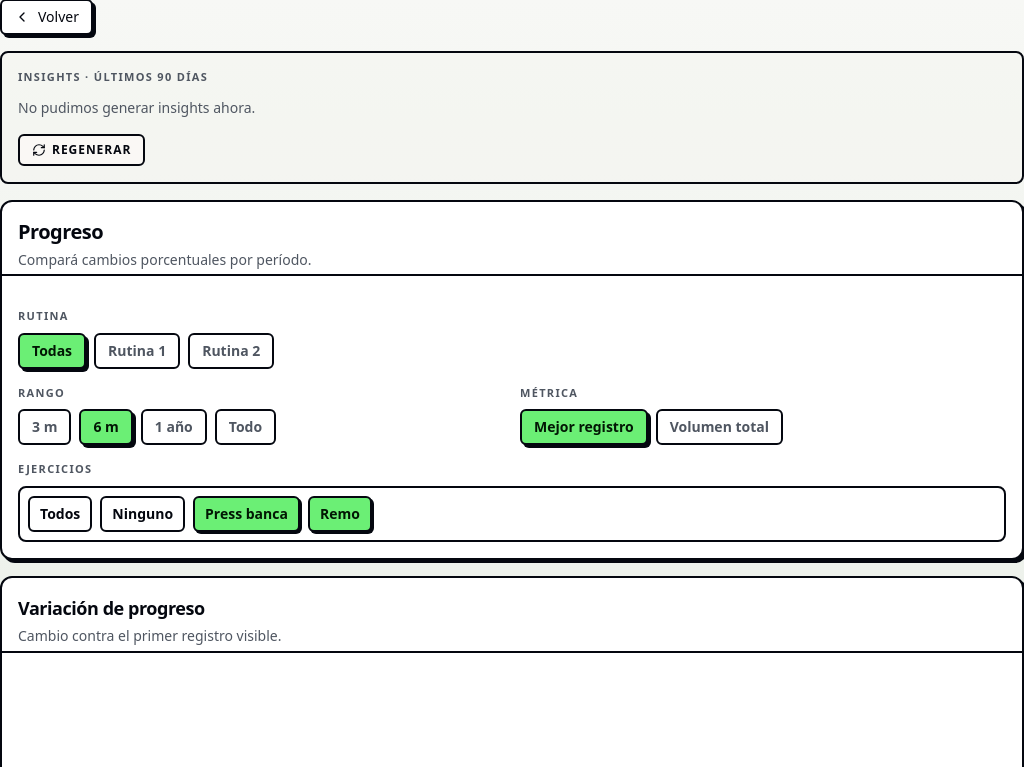
Scenario: ProgressOverviewPage › filters movements by routine and selects the visible movements
The image size is (1024, 767).
Click the button "Rutina 2": x=231, y=351 x1=188 y1=333 x2=274 y2=369
(page scrolled)
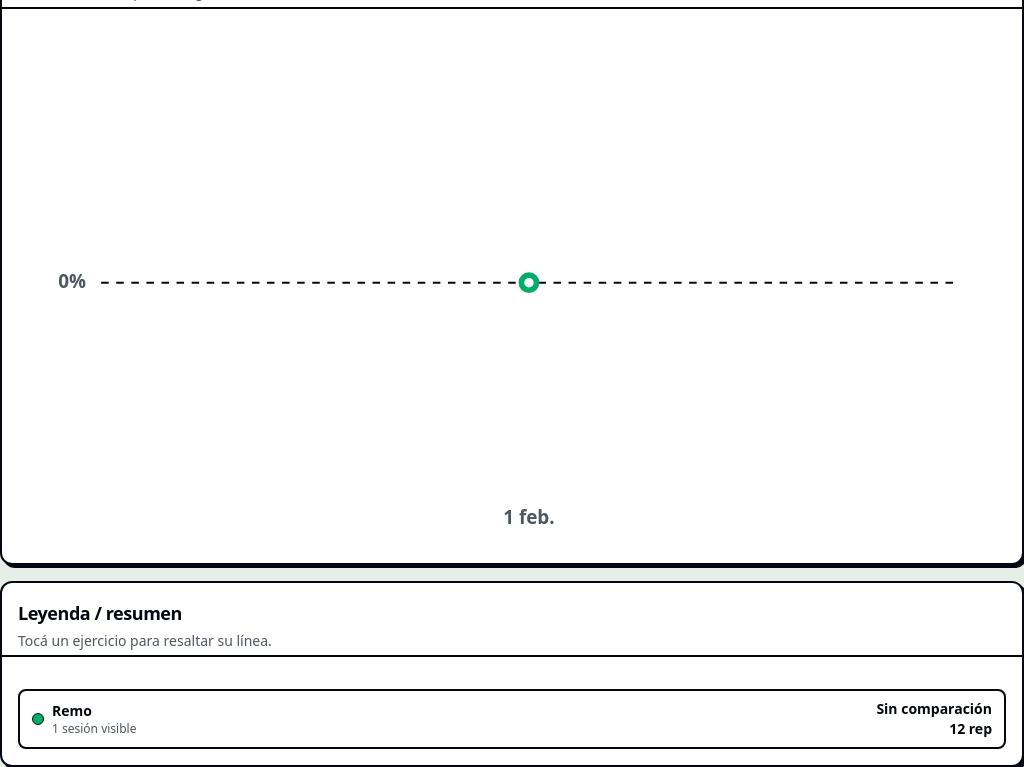
Expected: the button "Remo 1 sesión visible Sin comparación 12 rep" is shown, x1=18 y1=689 x2=1006 y2=749
Expected: the button "Press banca" is gone
